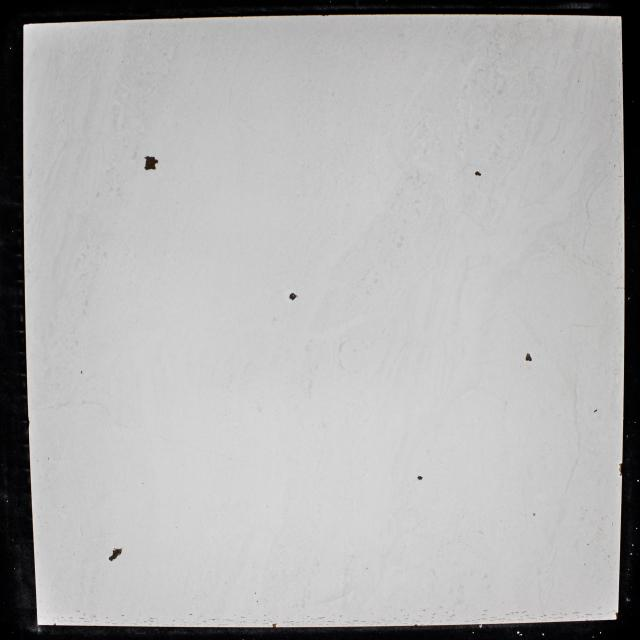edge-chipping: (618, 462, 622, 478), (271, 623, 277, 629), (615, 612, 619, 620)
hole: (106, 546, 125, 564), (142, 154, 160, 172), (286, 290, 300, 302), (524, 351, 534, 363), (416, 474, 424, 482), (474, 170, 483, 177), (593, 409, 598, 413), (532, 512, 536, 516)
